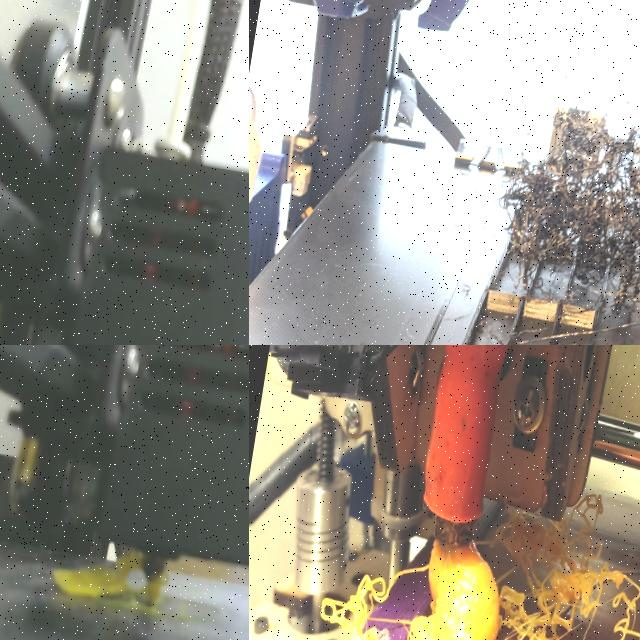spaghetti: (302, 497, 640, 640), (489, 80, 640, 326), (53, 551, 142, 598), (137, 573, 164, 606)
